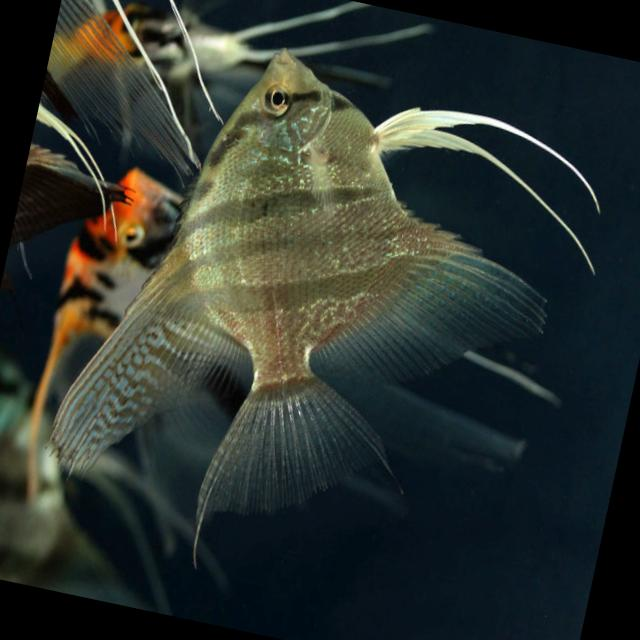AngelFish: (29, 16, 621, 628)
